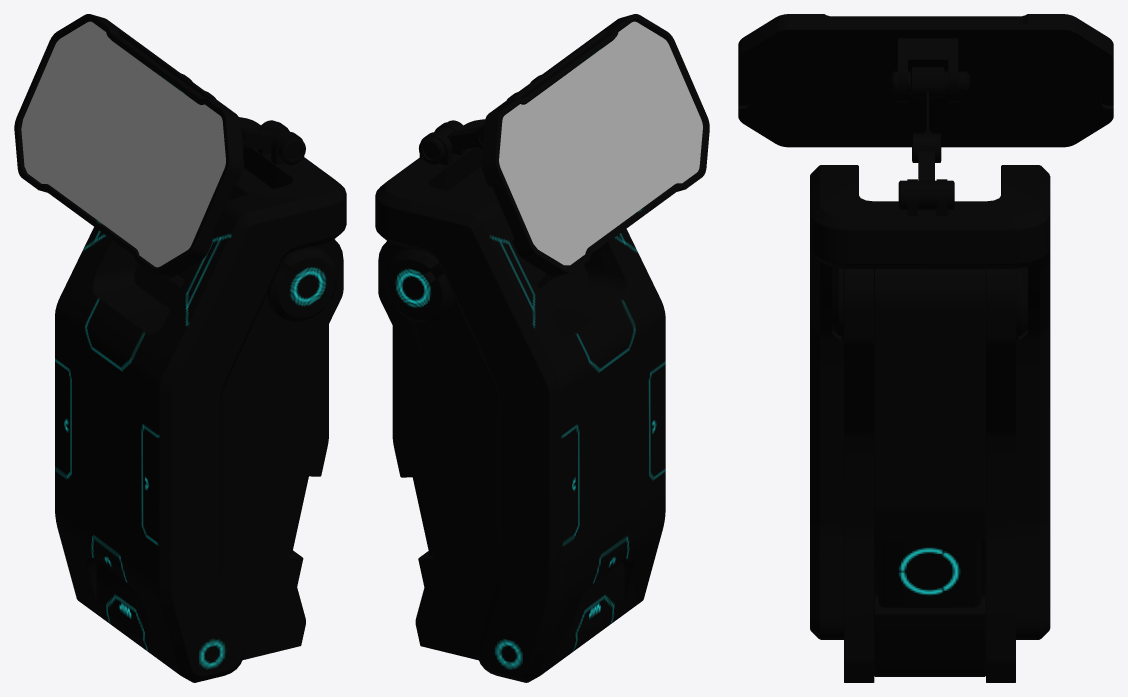
File: Display.fbx
The picture shows the model from 3 angles, left to right: view 1: azimuth 30°, elevation 25°; view 2: azimuth 150°, elevation 25°; view 3: azimuth 270°, elevation 25°; orthographic projection. The views are drawn at different scales.
Visible parts, largest first — view 1: polySurface16, polySurface12, polySurface11; view 2: polySurface16, polySurface12, polySurface11; view 3: polySurface16, polySurface11.
Part boxes in pixels (left/top/right/bottom): polySurface16: left=55, top=117, right=346, bottom=682; polySurface12: left=21, top=21, right=225, bottom=267; polySurface11: left=14, top=14, right=305, bottom=277; polySurface16: left=375, top=119, right=665, bottom=682; polySurface12: left=499, top=21, right=702, bottom=265; polySurface11: left=418, top=14, right=709, bottom=276; polySurface16: left=810, top=165, right=1050, bottom=682; polySurface11: left=738, top=14, right=1113, bottom=215.
Bounding box in the file's own units: 1.27 × 3.23 × 1.79.
